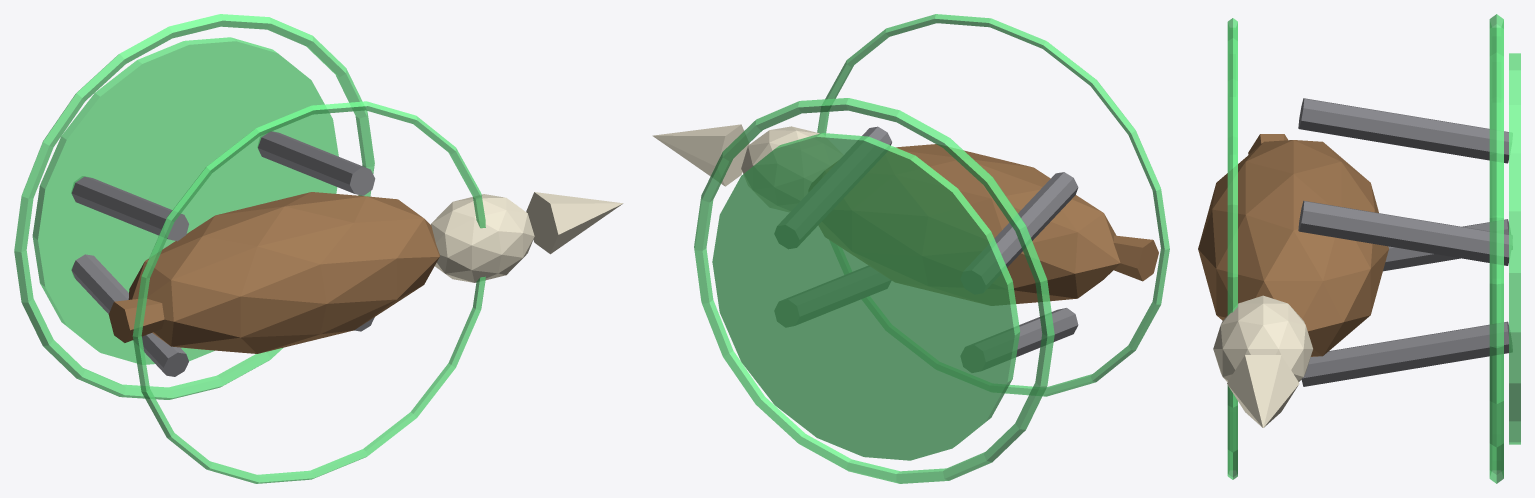
The model's file is ambient_butterfly_proxy.glb.
3 renders of one model, left to right at view 1: azimuth 30°, elevation 25°; view 2: azimuth 150°, elevation 25°; view 3: azimuth 270°, elevation 25°, orthographic. The views are drawn at different scales.
Visible parts, largest first — view 1: marker_disc, body, marker_ring, pounce_arc, head, leg_3, leg_1, snout, leg_0, tail; view 2: marker_disc, body, marker_ring, pounce_arc, head, leg_1, leg_3, leg_0, snout, leg_2, tail; view 3: body, marker_ring, leg_1, leg_3, leg_2, head, marker_disc, pounce_arc, snout, leg_0.
Part boxes in pixels (left/top/right/bottom): marker_disc: left=32, top=37, right=338, bottom=364; body: left=128, top=192, right=439, bottom=353; marker_ring: left=14, top=14, right=374, bottom=399; pounce_arc: left=132, top=101, right=485, bottom=483; head: left=431, top=194, right=534, bottom=282; leg_3: left=258, top=131, right=375, bottom=195; leg_1: left=71, top=176, right=188, bottom=241; snout: left=526, top=192, right=623, bottom=254; leg_0: left=71, top=254, right=188, bottom=376; tail: left=108, top=298, right=164, bottom=342; marker_disc: left=712, top=133, right=1020, bottom=460; body: left=809, top=144, right=1120, bottom=305; marker_ring: left=694, top=98, right=1054, bottom=483; pounce_arc: left=817, top=14, right=1169, bottom=396; head: left=741, top=126, right=842, bottom=211; leg_1: left=961, top=172, right=1078, bottom=293; leg_3: left=775, top=126, right=891, bottom=248; leg_0: left=961, top=308, right=1078, bottom=372; snout: left=652, top=124, right=749, bottom=186; leg_2: left=775, top=266, right=890, bottom=326; tail: left=1113, top=235, right=1158, bottom=281; body: left=1198, top=140, right=1388, bottom=356; marker_ring: left=1489, top=14, right=1503, bottom=483; leg_1: left=1298, top=98, right=1512, bottom=163; leg_3: left=1298, top=200, right=1512, bottom=265; leg_2: left=1301, top=321, right=1512, bottom=386; head: left=1213, top=295, right=1312, bottom=381; marker_disc: left=1509, top=53, right=1520, bottom=444; pounce_arc: left=1227, top=18, right=1237, bottom=479; snout: left=1227, top=355, right=1299, bottom=427; leg_0: left=1383, top=219, right=1512, bottom=271.
Bounding box in the file's own units: 2.17 × 1.54 × 1.07.
